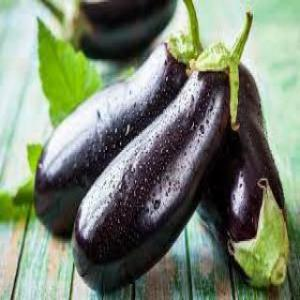eggplant: (72, 47, 235, 293), (34, 34, 194, 236), (196, 55, 284, 269)
